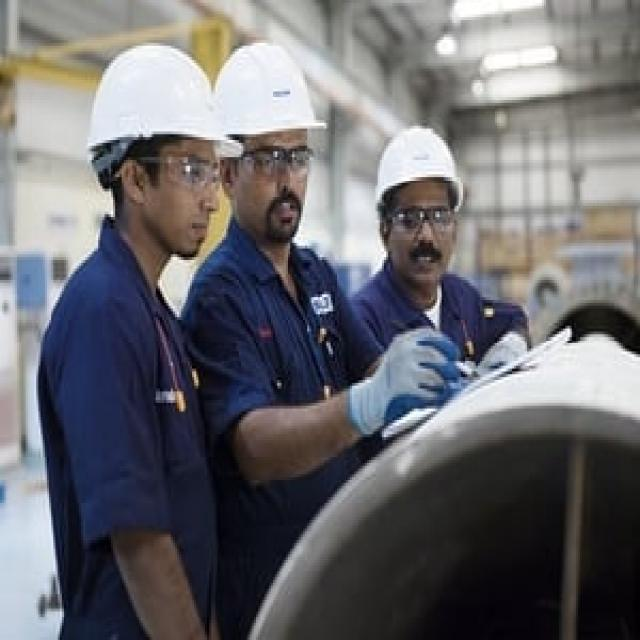Reflective-Jacket: (224, 331, 640, 620)
Safety-Helmet: (77, 37, 226, 172), (214, 37, 328, 152), (369, 117, 469, 209)
